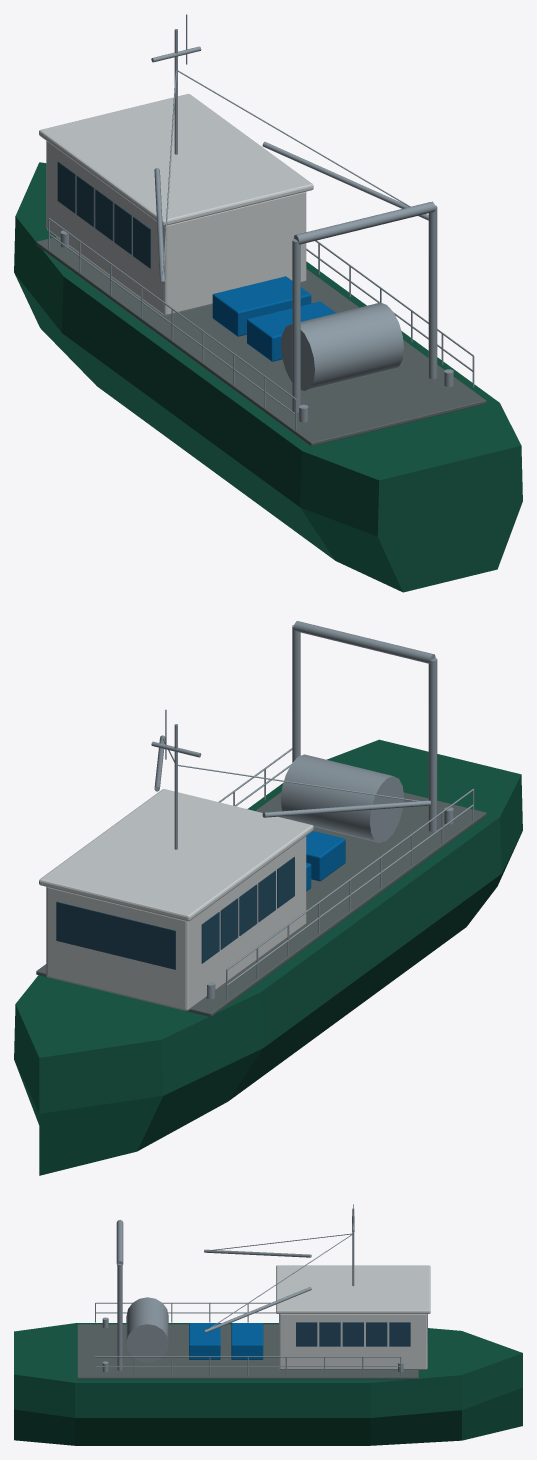
File: ship-fishing.glb
3 renders of one model, top to bottom at view 1: azimuth 30°, elevation 25°; view 2: azimuth 150°, elevation 25°; view 3: azimuth 270°, elevation 25°, orthographic. The views are drawn at different scales.
Parts seen in each view (by area): view 1: ship-fishing_body, ship-fishing_metal, ship-fishing_glass; view 2: ship-fishing_body, ship-fishing_metal, ship-fishing_glass; view 3: ship-fishing_body, ship-fishing_metal, ship-fishing_glass.
Part boxes in pixels (box(x1,y1,x2,y2)): ship-fishing_body: box(14, 94, 522, 592); ship-fishing_metal: box(48, 14, 474, 430); ship-fishing_glass: box(57, 161, 150, 268); ship-fishing_body: box(14, 739, 522, 1175); ship-fishing_metal: box(151, 621, 474, 1001); ship-fishing_glass: box(56, 857, 294, 969); ship-fishing_body: box(14, 1265, 522, 1445); ship-fishing_metal: box(95, 1204, 403, 1376); ship-fishing_glass: box(296, 1314, 427, 1346).
Bounding box in the file's own units: 9.14 × 11.7 × 24.
